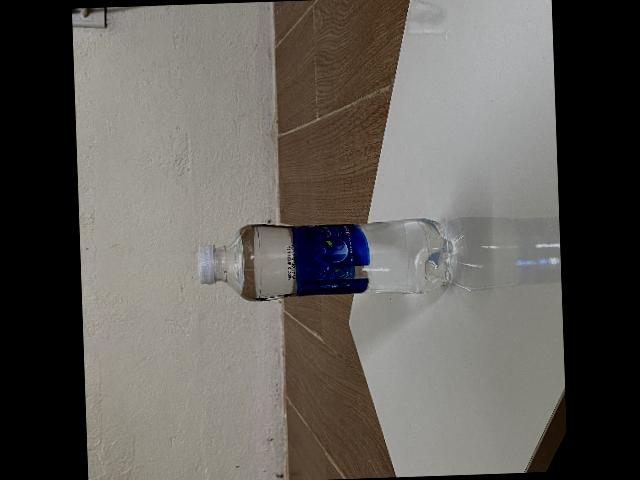aquafina: (196, 218, 454, 301)
